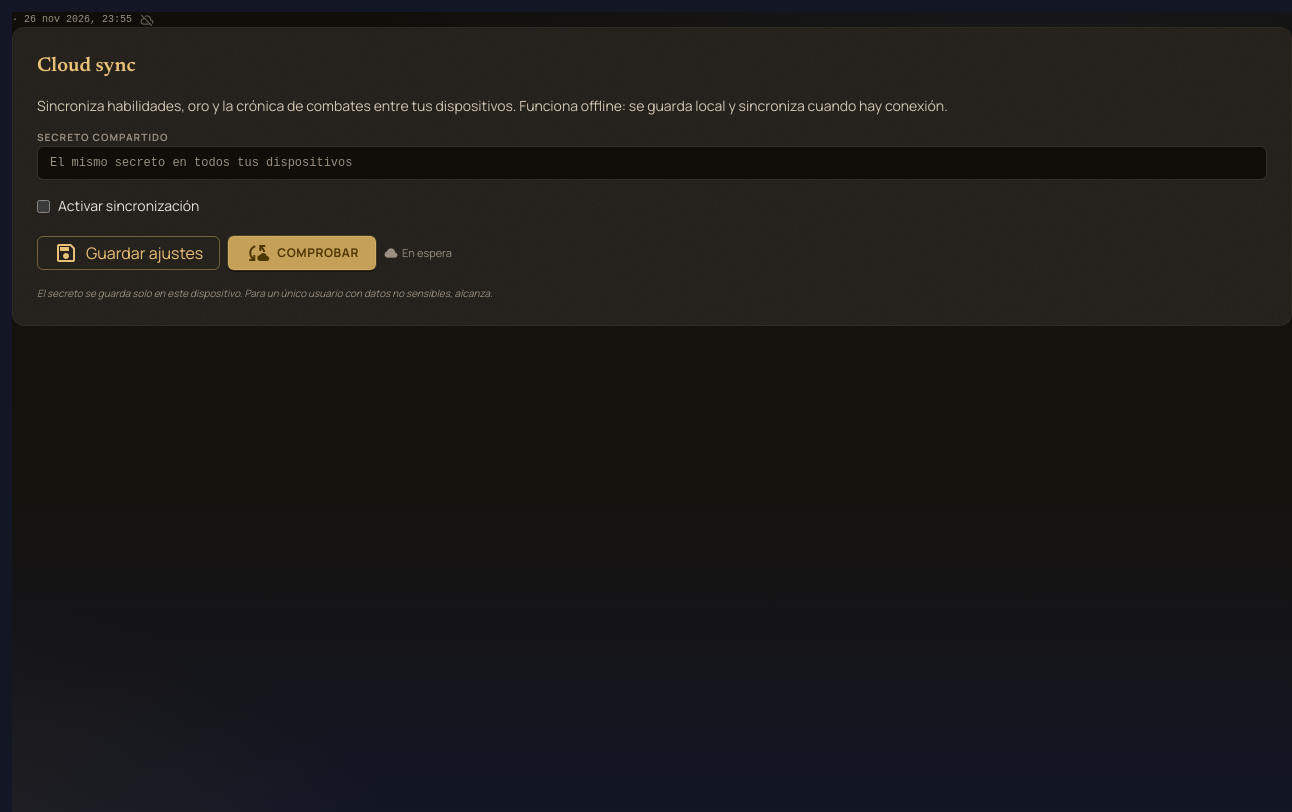
Test: HeaderStatus reacts to enabling sync in Settings › shows sync as active when the box is ticked before the secret is typed
Click the checkbox labelled "Activar sincronización": (44, 206) [37, 200, 50, 212]
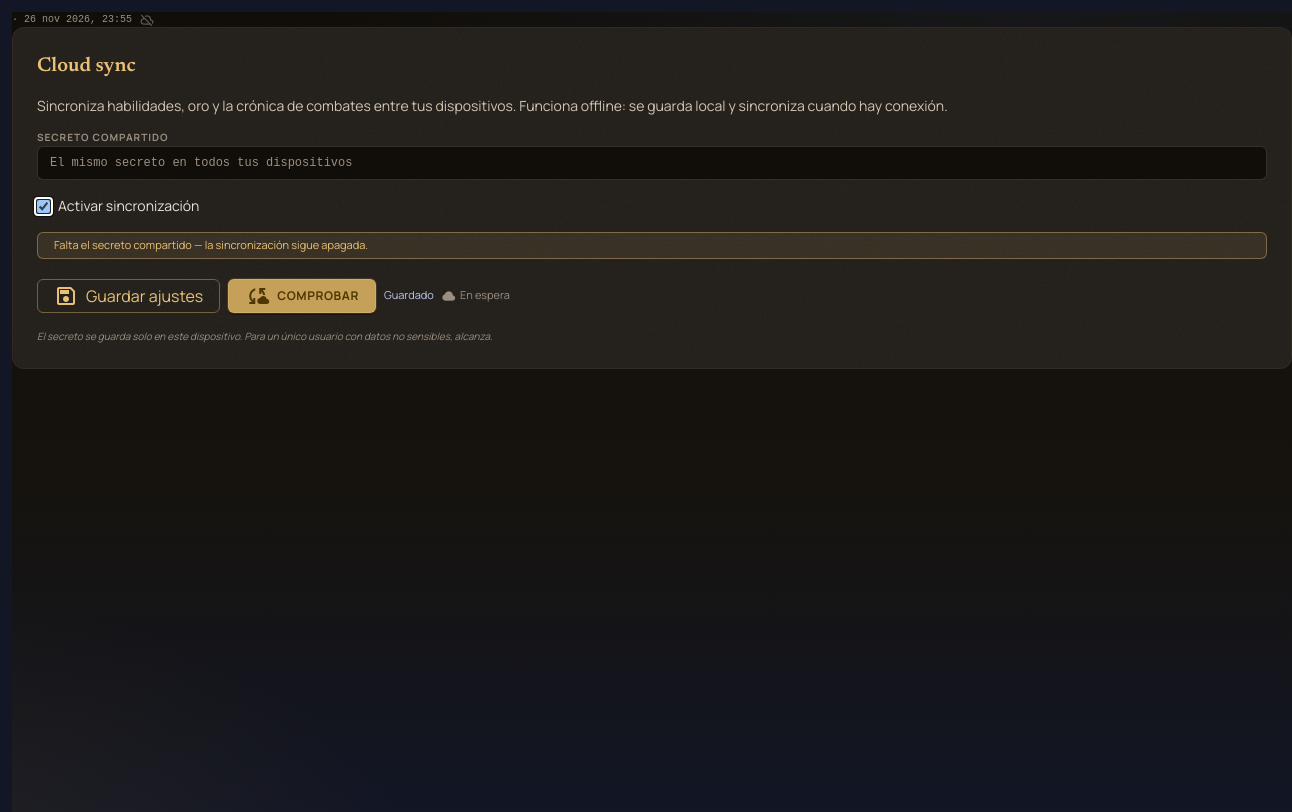
In the password field with placeholder "El mismo secreto en todos tus dispositivos": (652, 163) [37, 146, 1267, 180], type "s3cret"
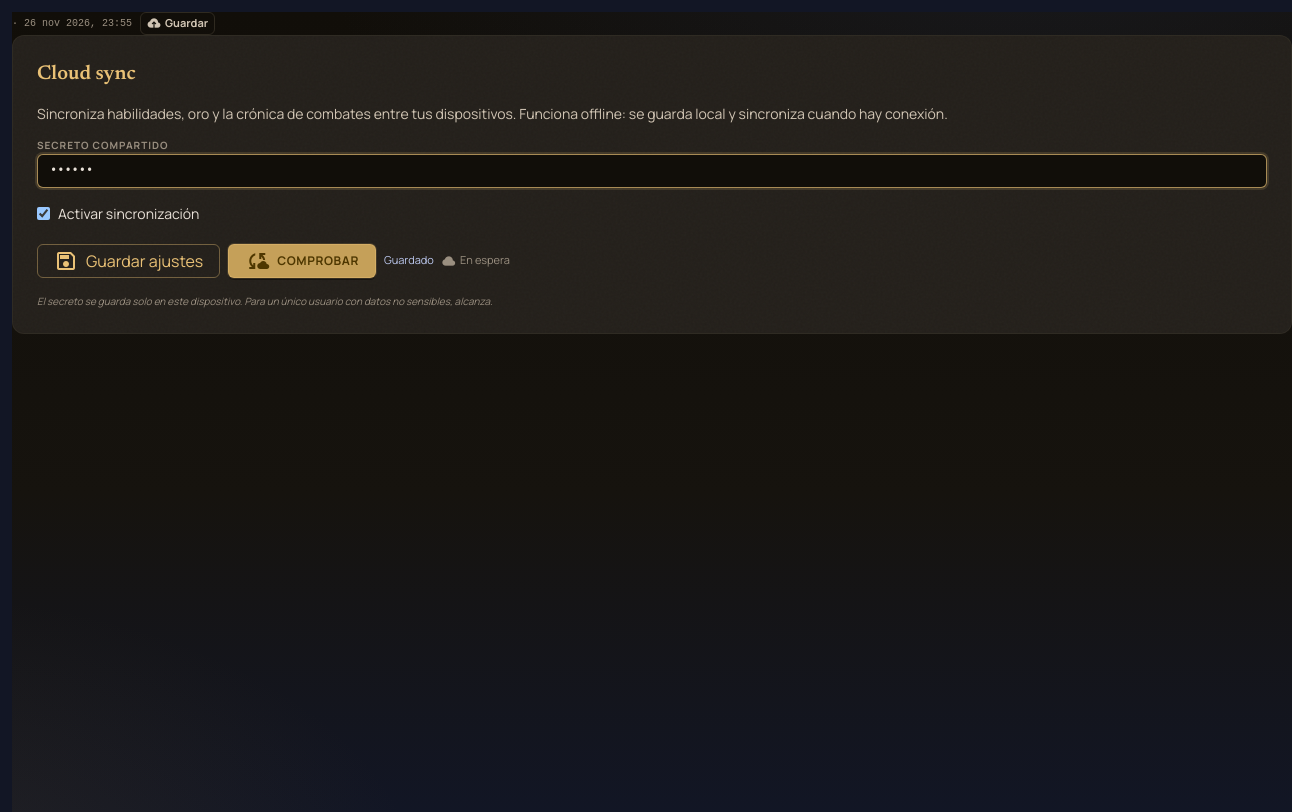
Now the button with aria-label "Subir los cambios locales a la nube" is shown, box [140, 12, 215, 34]
